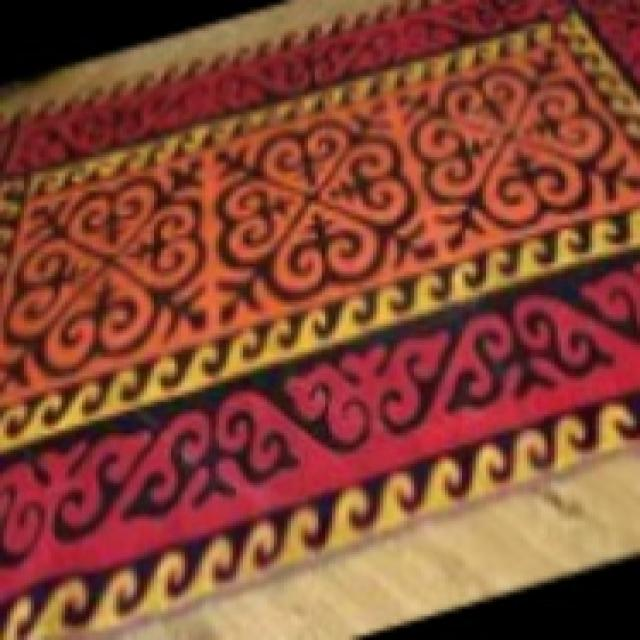Unity: (205, 96, 447, 329), (387, 46, 637, 257), (6, 157, 214, 399)
